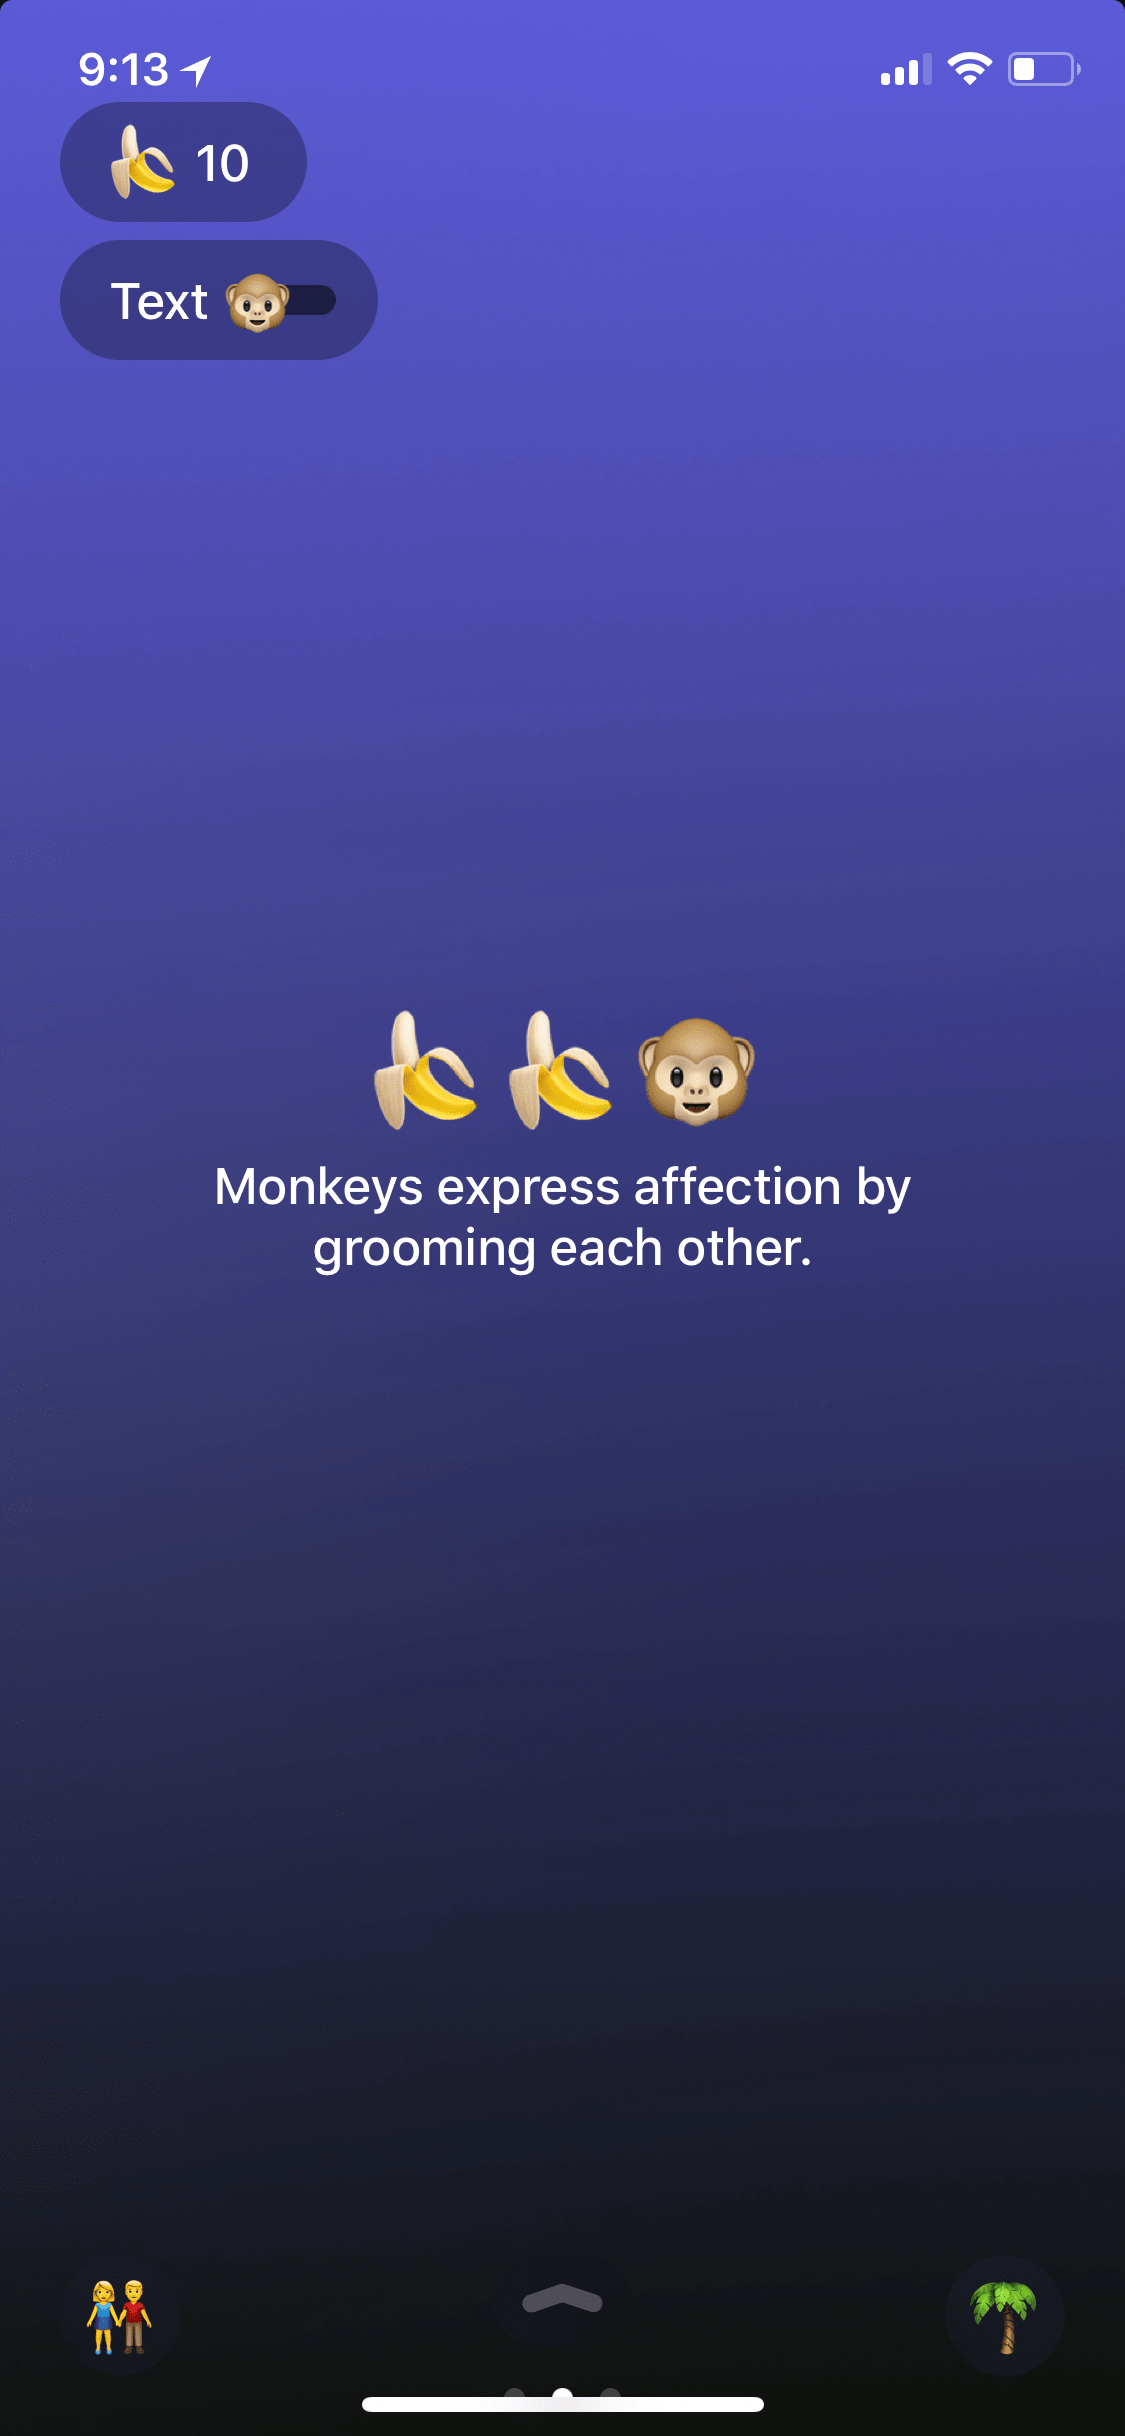FAB (Floating Action Button): (36, 2225, 208, 2400), (909, 2229, 1083, 2389)
Switches: (221, 256, 342, 336)
